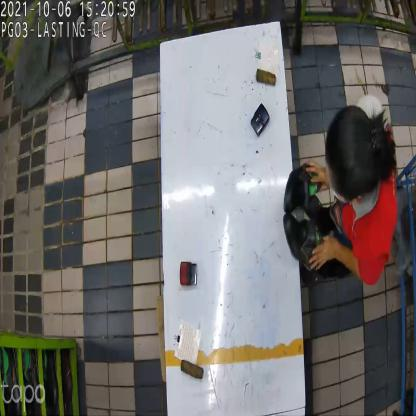shoes: (280, 159, 321, 275)
stamp: (252, 104, 271, 139), (178, 258, 197, 289)
